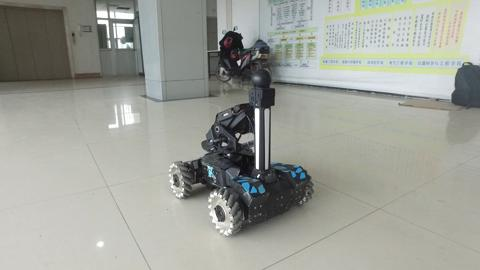bag: (449, 58, 480, 115)
chariot: (151, 71, 320, 241)
